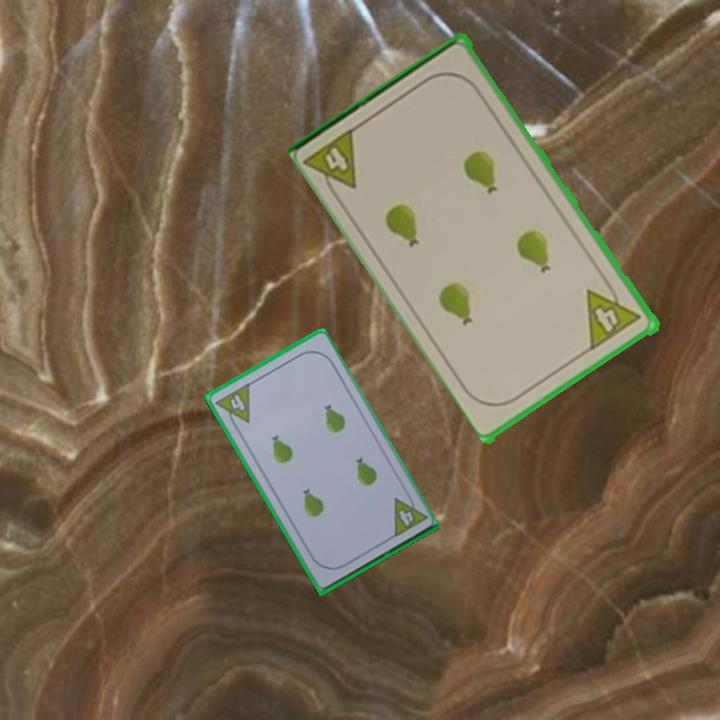4p: (302, 123, 361, 203), (583, 276, 645, 352), (212, 379, 253, 432), (389, 489, 429, 540)
